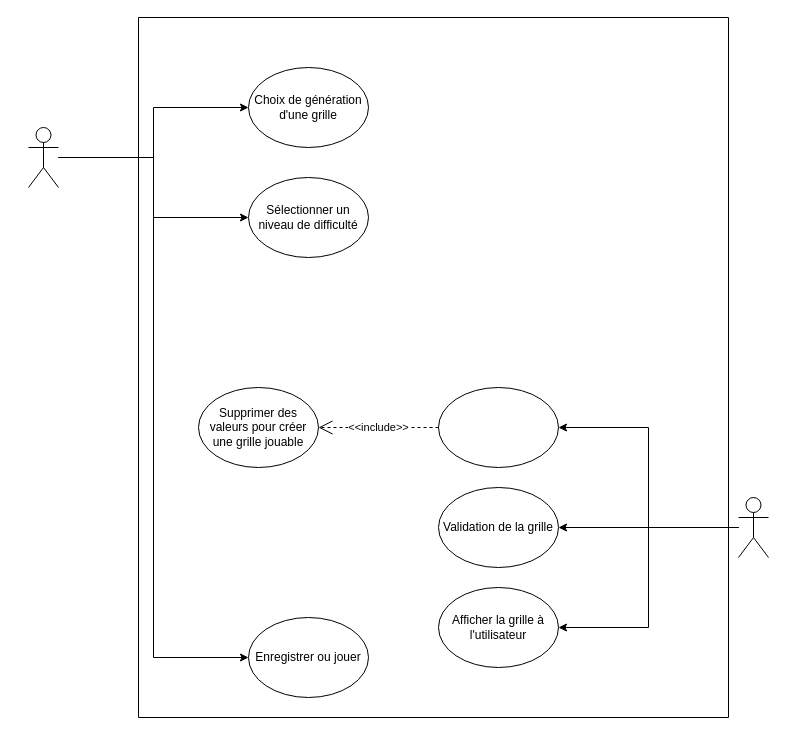
Some shapes in this 794 by 735 pixel diagram are drawn without their labels. The shapes that lost their labels are listed below. From the top down, each one's box as (x1, y1, x2, y2) in pixels, then its label:
(28, 126, 58, 188): Utilisateur
(438, 386, 558, 468): Créer une grille complète
(738, 496, 768, 558): Systeme
